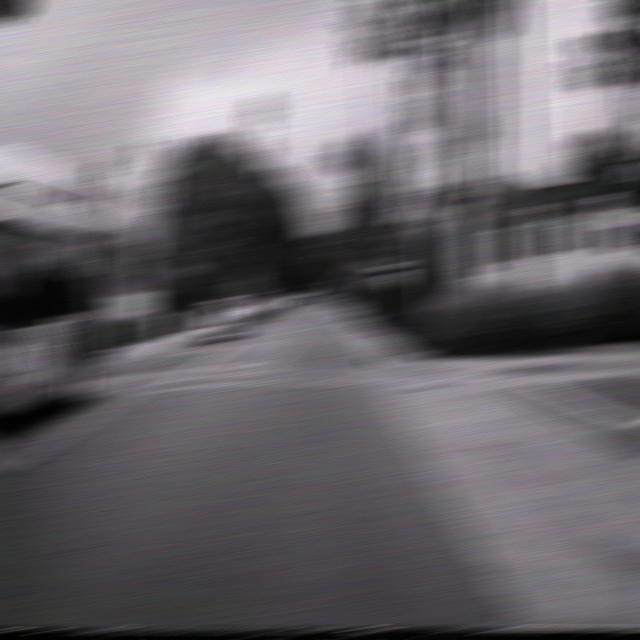pedestrianCrossing: (407, 191, 447, 241)
